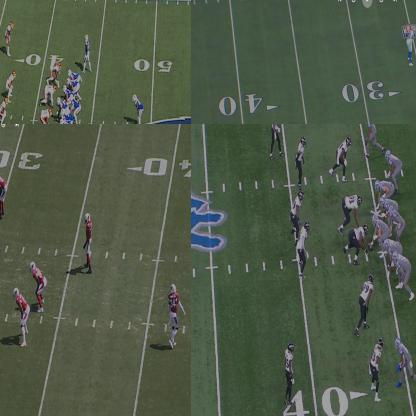CENTER: (372, 216, 388, 256), (56, 96, 68, 117)
DB: (166, 282, 181, 344), (368, 340, 382, 398), (294, 133, 307, 185), (84, 211, 94, 270), (286, 338, 294, 406), (270, 124, 284, 158), (404, 23, 415, 66), (0, 169, 8, 214), (7, 20, 14, 54)
LB: (329, 137, 353, 181), (14, 285, 30, 348), (29, 261, 48, 311), (296, 218, 311, 270), (291, 190, 303, 245), (6, 73, 16, 102), (0, 99, 7, 123)
QB: (388, 206, 401, 240), (69, 95, 81, 121)
SKILL: (394, 337, 415, 391), (386, 151, 402, 183), (364, 124, 380, 151), (83, 33, 91, 73), (132, 93, 142, 123), (68, 69, 82, 81)
